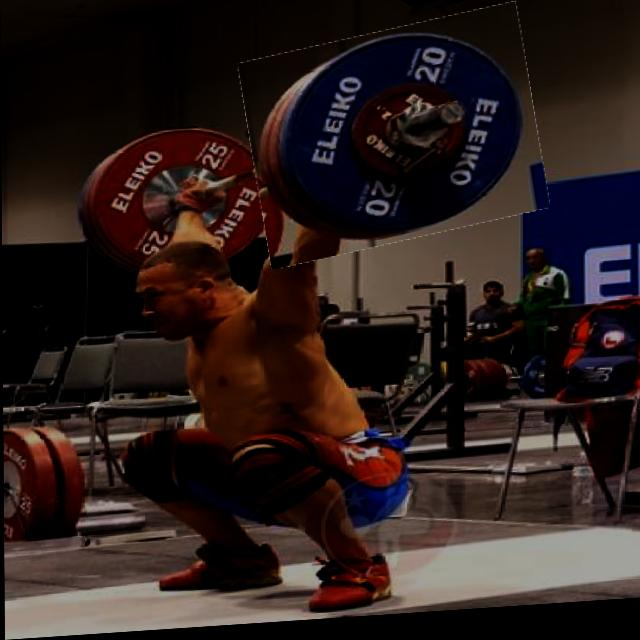barbell: (246, 18, 544, 265)
